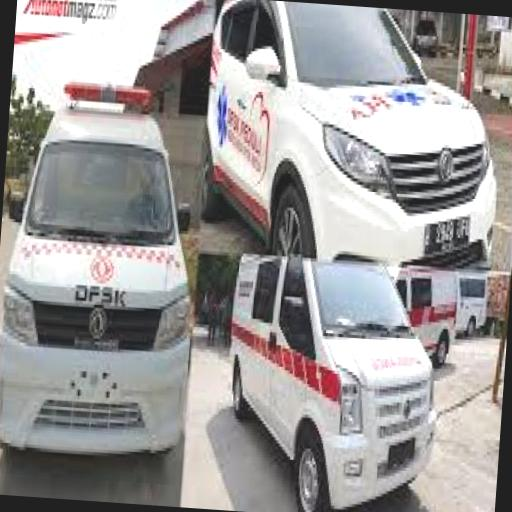Police car: (0, 74, 207, 455)
